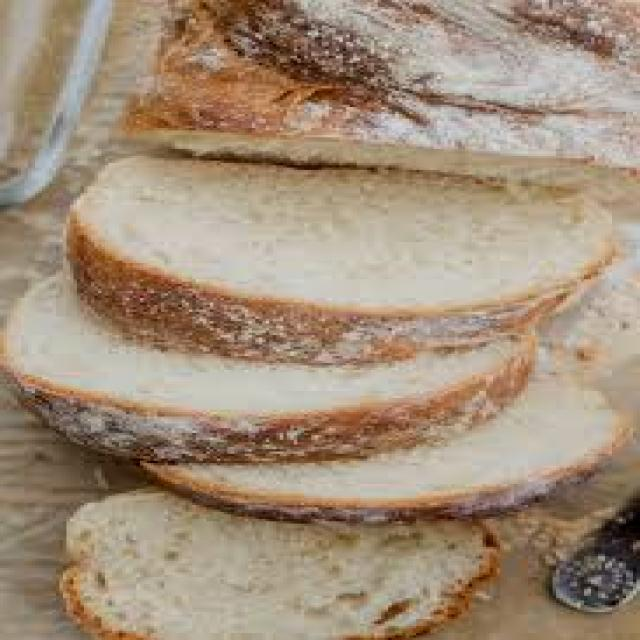wet: (53, 189, 596, 628), (121, 2, 635, 178)
